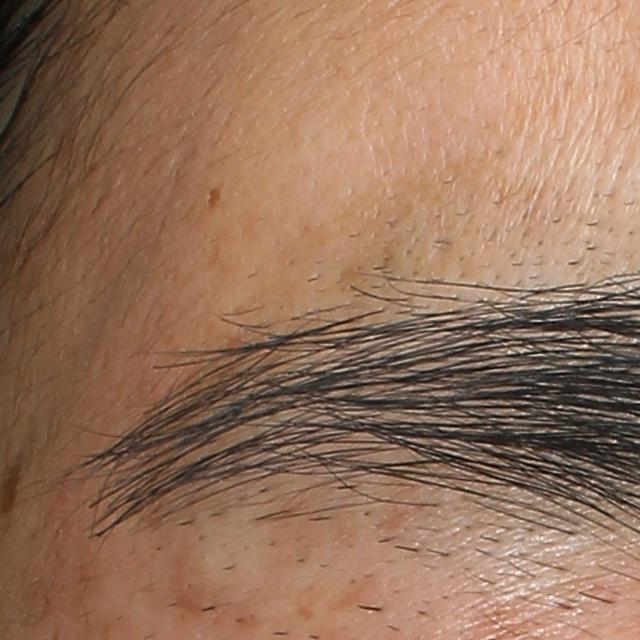melasma: (166, 538, 210, 623), (323, 568, 386, 613), (207, 183, 224, 210)
